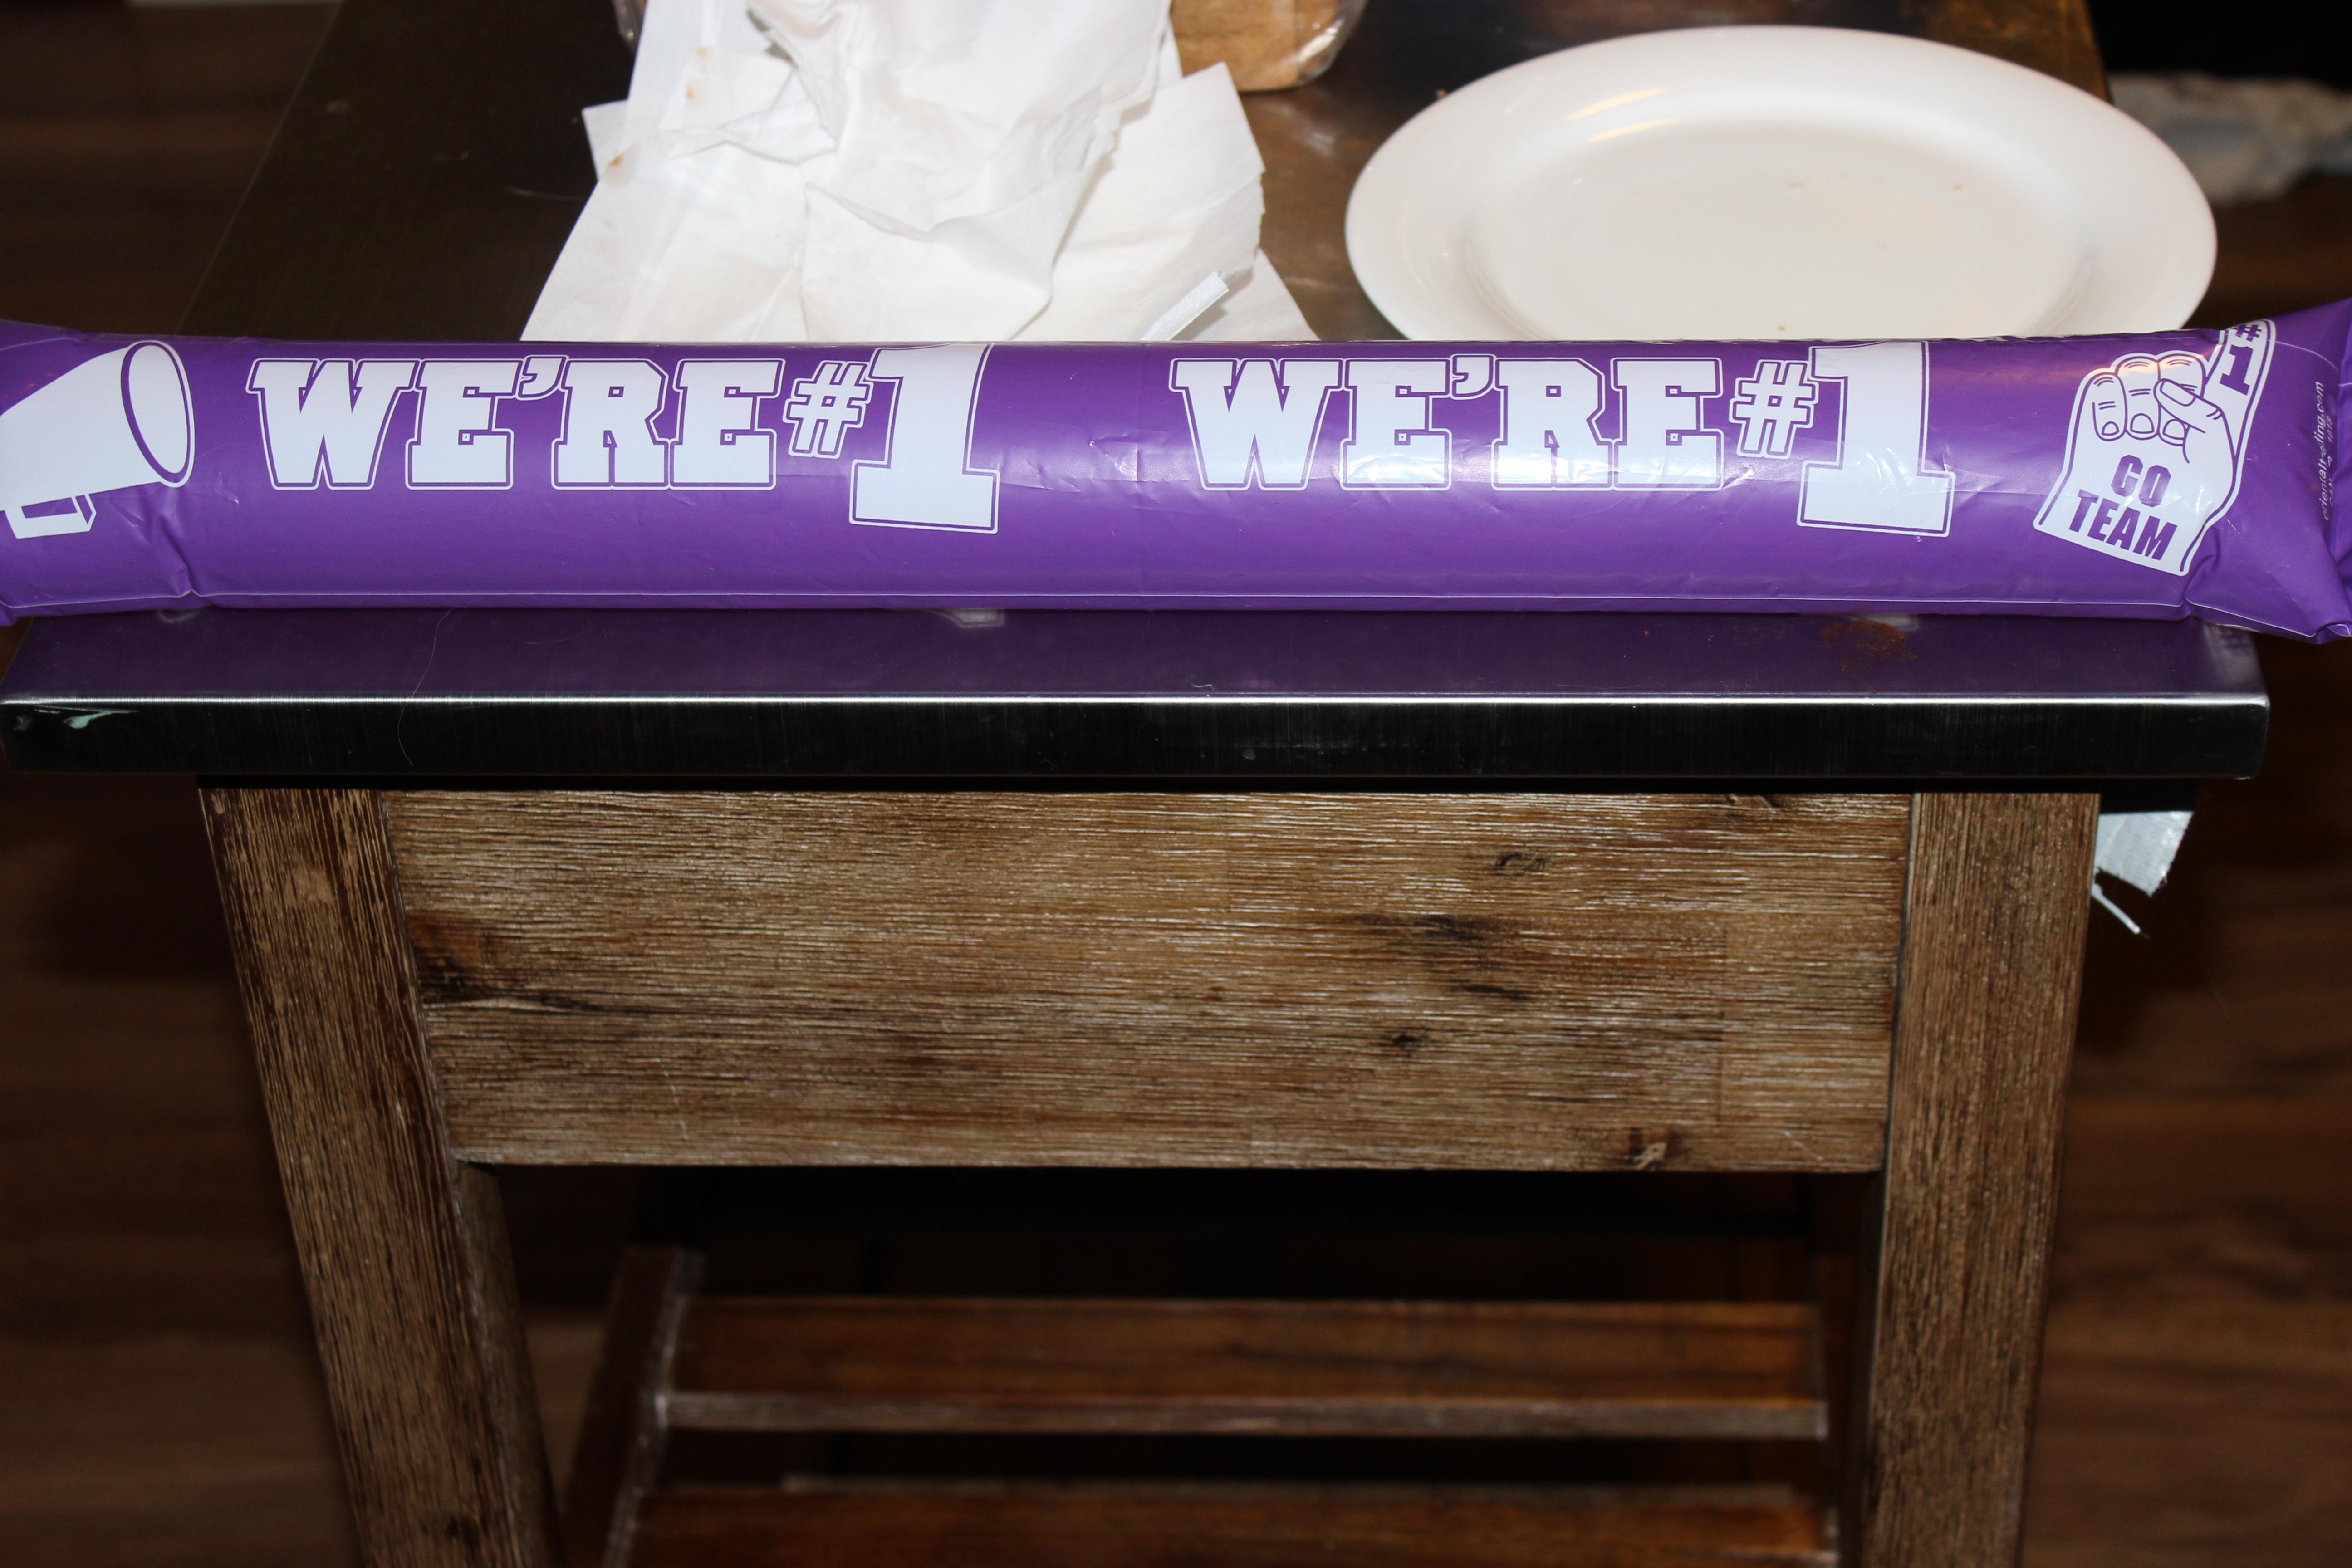noisemaker: (0, 205, 2352, 747)
